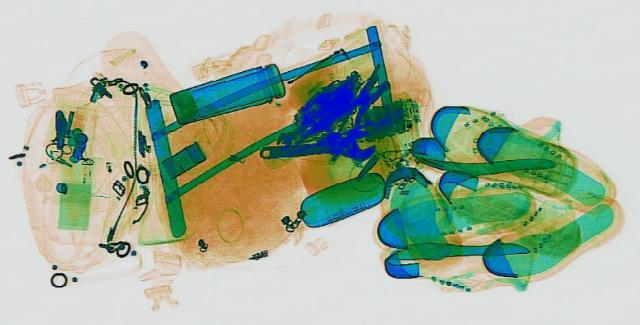Wrench: (254, 128, 378, 167)
